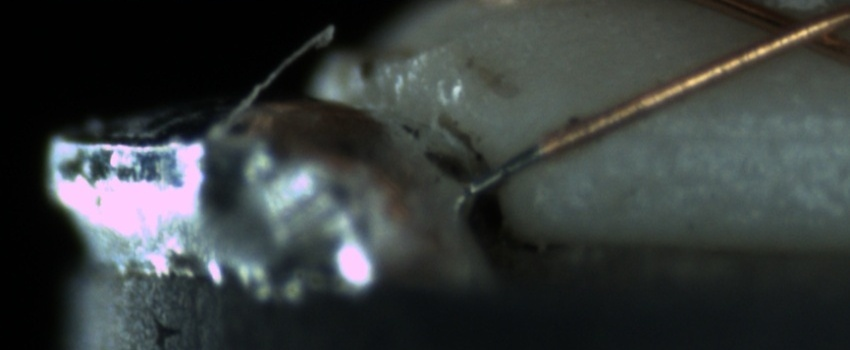CL: (740, 3, 842, 63)
DL: (617, 97, 845, 167)
TS: (468, 143, 546, 195)
TTCW: (463, 125, 564, 195)
